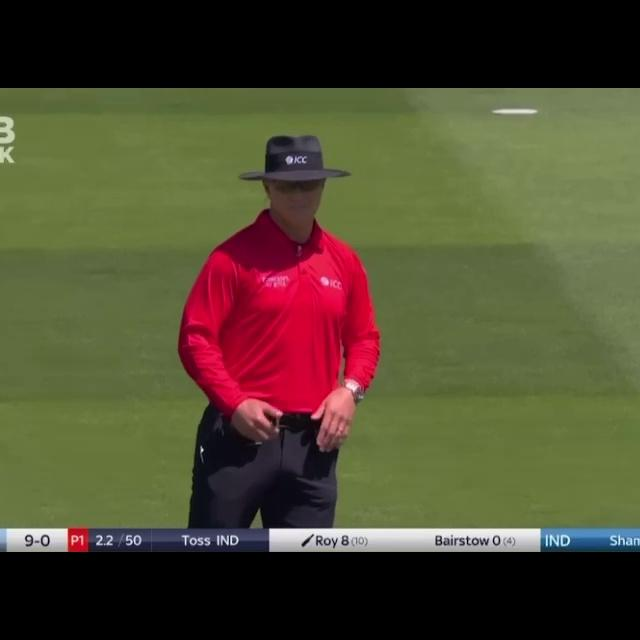umpire: (175, 118, 378, 535)
